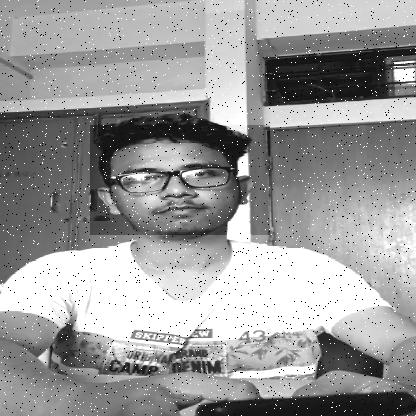Normal: (90, 126, 270, 236)
